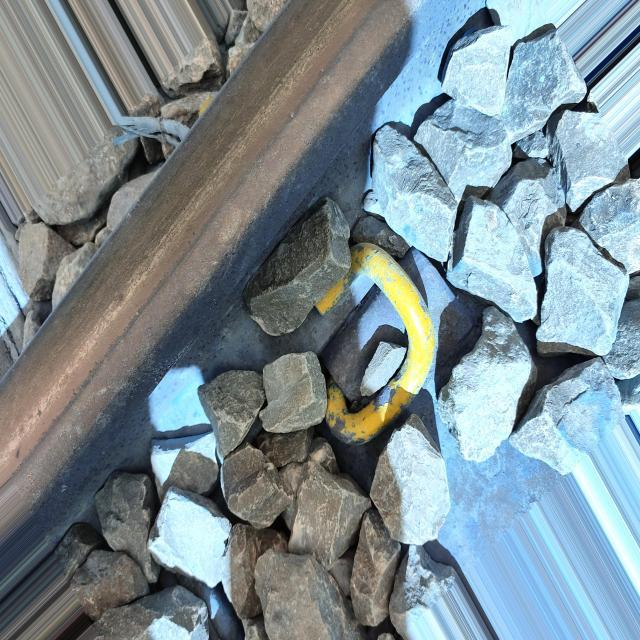Good Fasteners: (317, 243, 478, 444)
